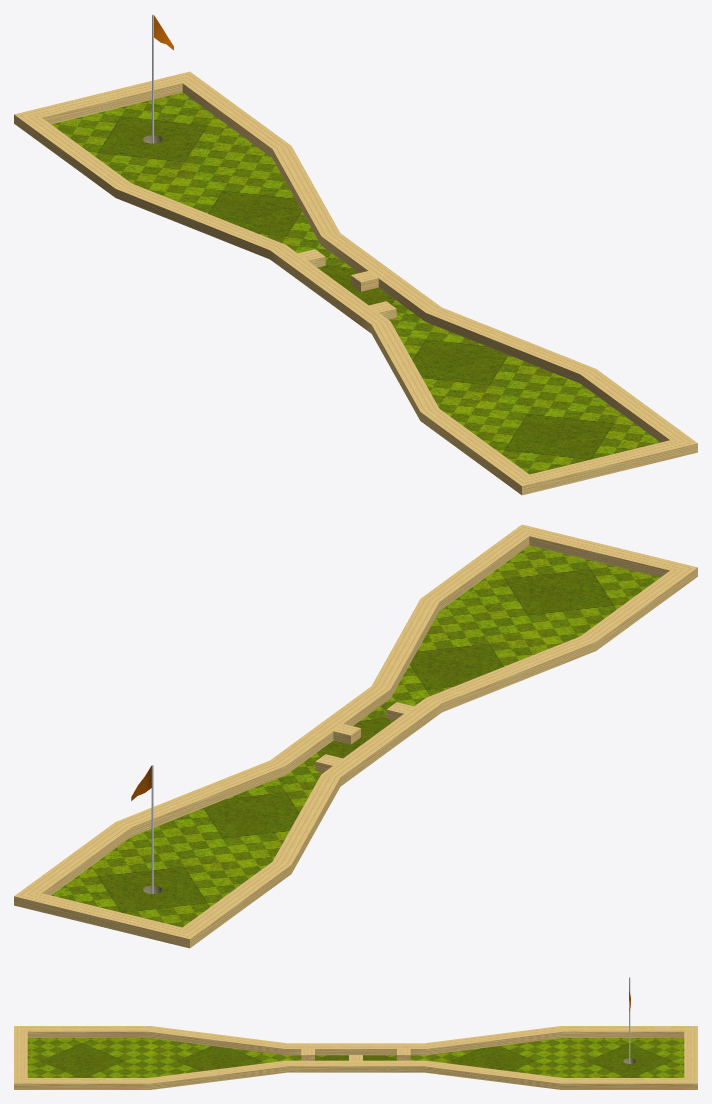
File: course1_hole14.fbx
3 views of the same model, one above another, from view 1: azimuth 30°, elevation 25°; view 2: azimuth 150°, elevation 25°; view 3: azimuth 270°, elevation 25° (orthographic). The views are drawn at different scales.
Parts seen in each view (by area): view 1: course1_hole14_ground, course1_hole14_walls; view 2: course1_hole14_ground, course1_hole14_walls, course1_hole14_flag; view 3: course1_hole14_walls, course1_hole14_ground, course1_hole14_left_moving_walls.
Boxes of the visible parts, bbox=[...] form: course1_hole14_ground: bbox=[51, 92, 660, 474]; course1_hole14_walls: bbox=[14, 71, 697, 495]; course1_hole14_ground: bbox=[51, 545, 660, 927]; course1_hole14_walls: bbox=[14, 524, 697, 948]; course1_hole14_flag: bbox=[131, 765, 153, 893]; course1_hole14_walls: bbox=[14, 1026, 697, 1089]; course1_hole14_ground: bbox=[27, 1038, 684, 1077]; course1_hole14_left_moving_walls: bbox=[301, 1049, 410, 1060].
Bounding box in the file's own units: 3 × 2.25 × 15.
